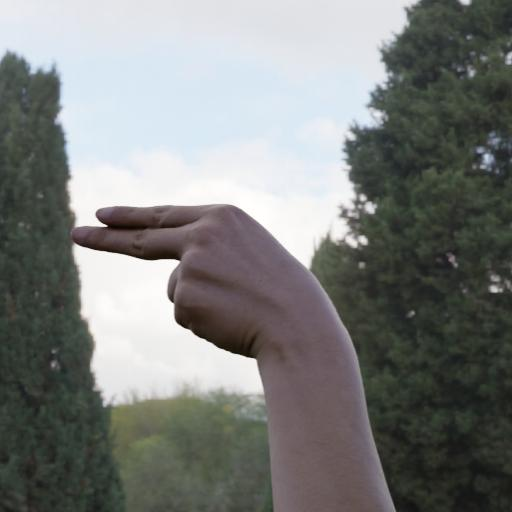H: (61, 194, 367, 368)
